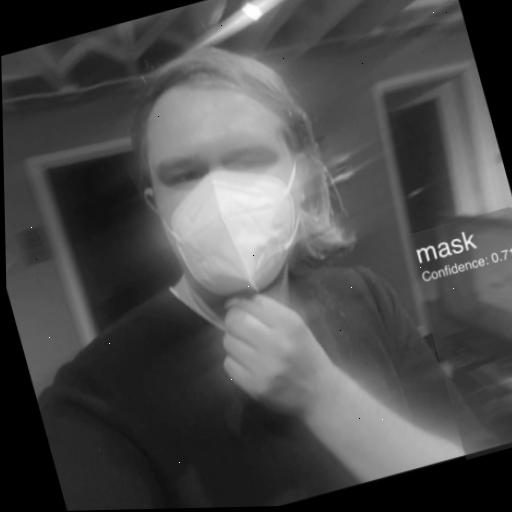mask: (89, 1, 367, 305)
